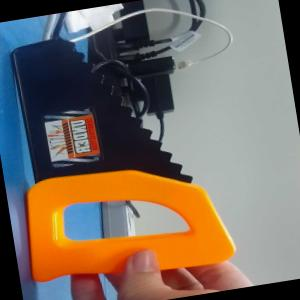serrote: (0, 15, 233, 278)
